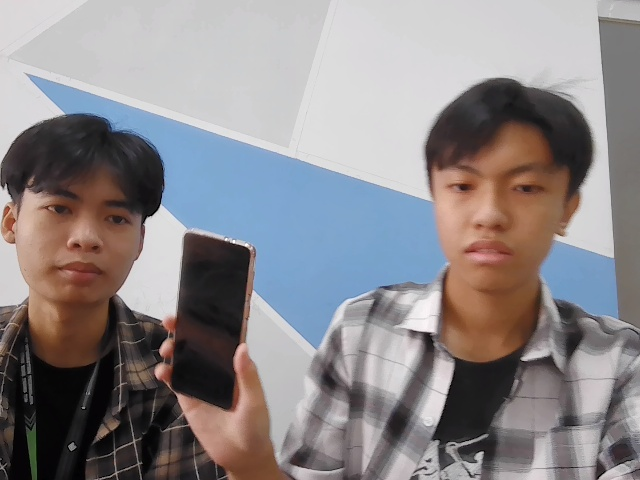human: (424, 75, 590, 292), (2, 115, 171, 309)
phone: (164, 227, 257, 405)
